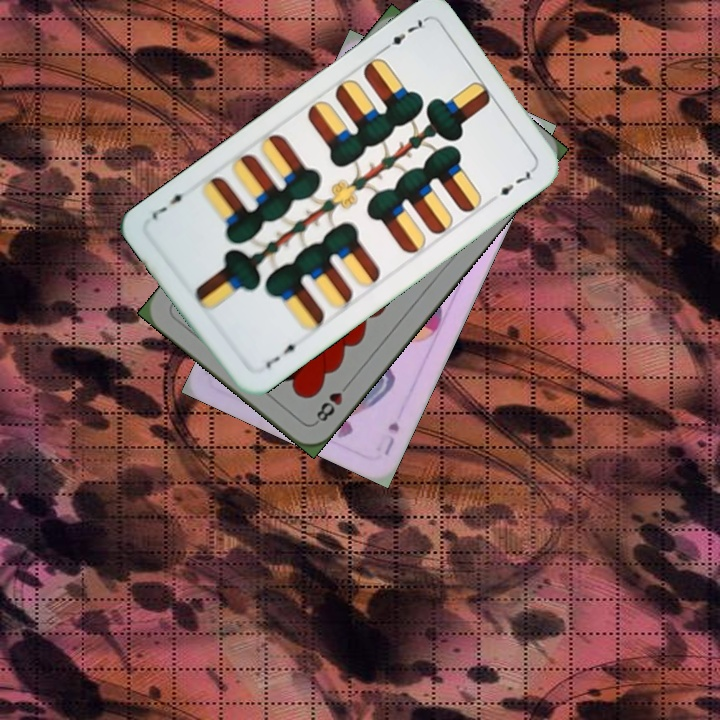E7: (377, 14, 428, 55), (261, 338, 305, 371)
H8: (311, 377, 353, 427)
SU: (379, 417, 402, 458)
